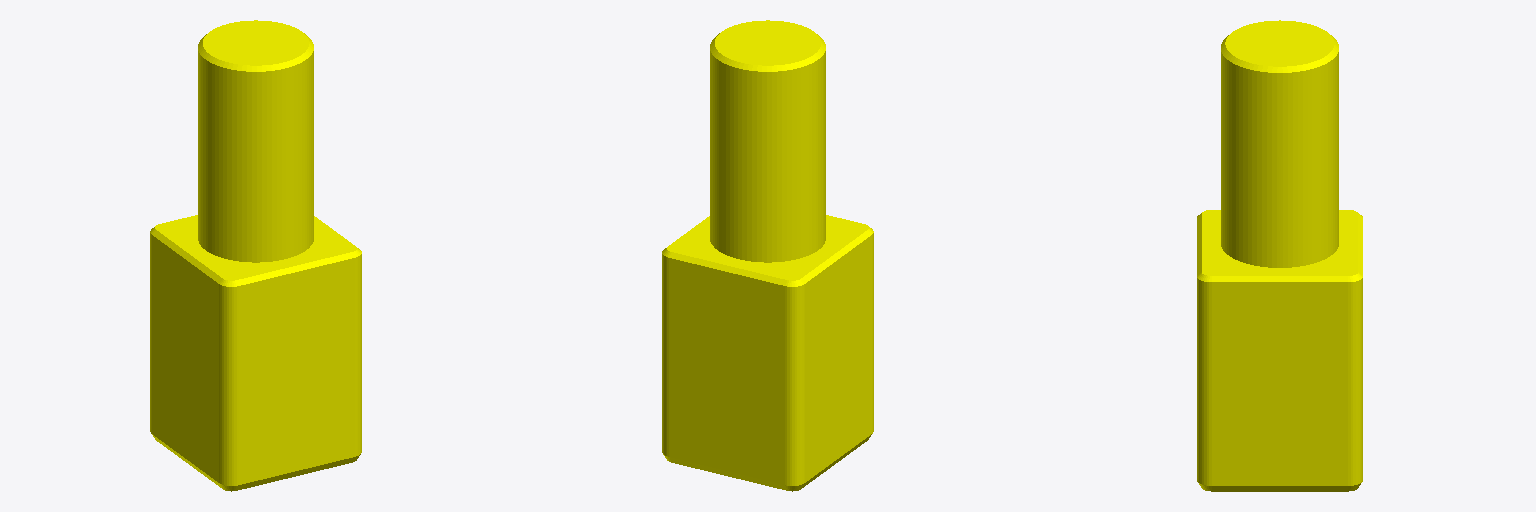
robot.urdf — shaft2:
<?xml version="1.0"?>
<robot name="shaft2">
    <link name="shaft2">
        <visual>
            <origin xyz="0 0 0 " rpy=" 0 0 0"/>
            <geometry>
                <mesh filename="gearbox_meshes/shaft2_precise.stl"/>
            </geometry>
            <material name="yellow">
                <color rgba="1.0 1.0 0.0 1.0"/>
            </material>
        </visual>
        <collision>
            <origin xyz="0 0 0" rpy="0 0 0"/>
            <geometry>
                <mesh filename="gearbox_meshes/shaft2_precise.stl"/>
            </geometry>
            <sdf resolution="256"/>
        </collision>
    </link>
</robot>

--- Facts derived from the render (not from the file) ---
Views: 3 orthographic renders of the robot side by side, from view 1: azimuth 30°, elevation 25°; view 2: azimuth 150°, elevation 25°; view 3: azimuth 270°, elevation 25°.
Robot: shaft2 — 1 links, 0 joints (none); root link shaft2; default pose: all joints at 0.
Links seen in each view (by area): view 1: shaft2; view 2: shaft2; view 3: shaft2.
Boxes of the visible links, left/top/right/bottom form: shaft2: left=150, top=20, right=361, bottom=491; shaft2: left=662, top=20, right=873, bottom=491; shaft2: left=1197, top=20, right=1362, bottom=491.
Bounding box of the posed robot: 0.042 × 0.042 × 0.1155 m (x, y, z).
1 mesh visuals loaded from 1 distinct referenced files (1 binary STL).
